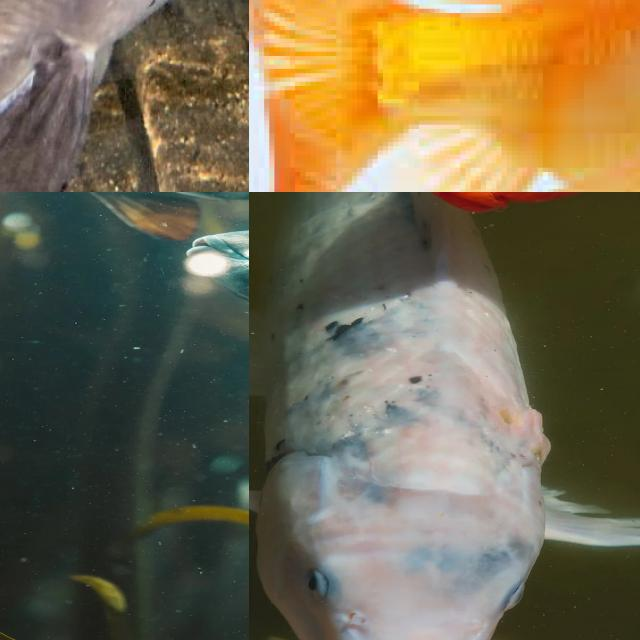fish: (0, 192, 249, 560), (249, 0, 640, 192), (0, 0, 249, 192), (569, 236, 640, 460)
